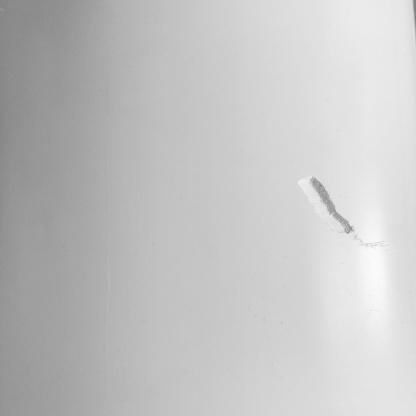sunshang: (300, 173, 359, 236)
